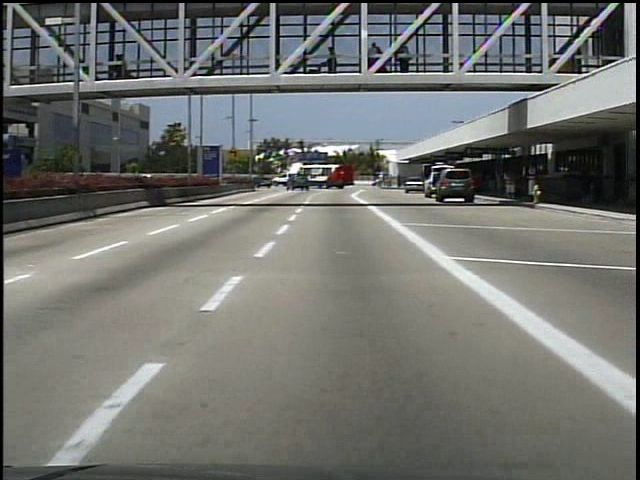person: (503, 164, 523, 202), (113, 50, 136, 83), (321, 44, 343, 76)
